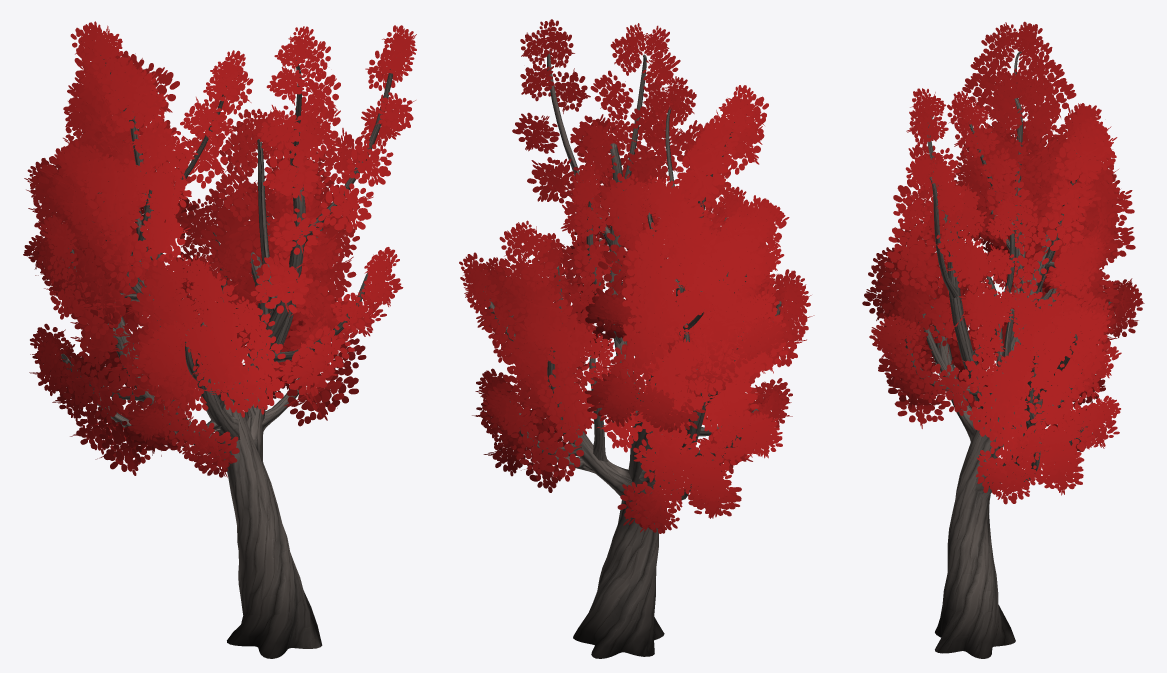
File: TwistedTree_2.glb
3 views of the same model, side by side, from view 1: azimuth 30°, elevation 25°; view 2: azimuth 150°, elevation 25°; view 3: azimuth 270°, elevation 25° (orthographic). The views are drawn at different scales.
Visible parts, largest first — view 1: TwistedTree_2; view 2: TwistedTree_2; view 3: TwistedTree_2.
Part boxes in pixels (bbox=[...]): TwistedTree_2: bbox=[23, 21, 416, 658]; TwistedTree_2: bbox=[459, 19, 814, 658]; TwistedTree_2: bbox=[862, 21, 1144, 658].
Bounding box in the file's own units: 10.56 × 18.95 × 9.2.
Materials: 2 (2 with a texture image).
